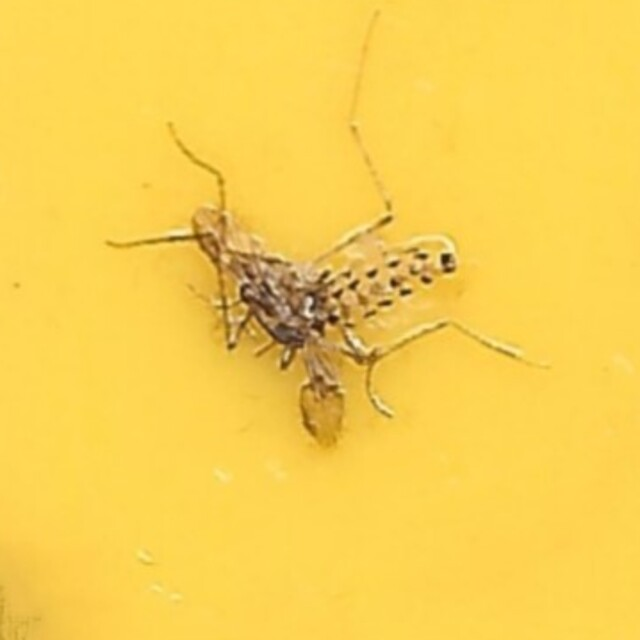Nematocera: (178, 193, 462, 447)
